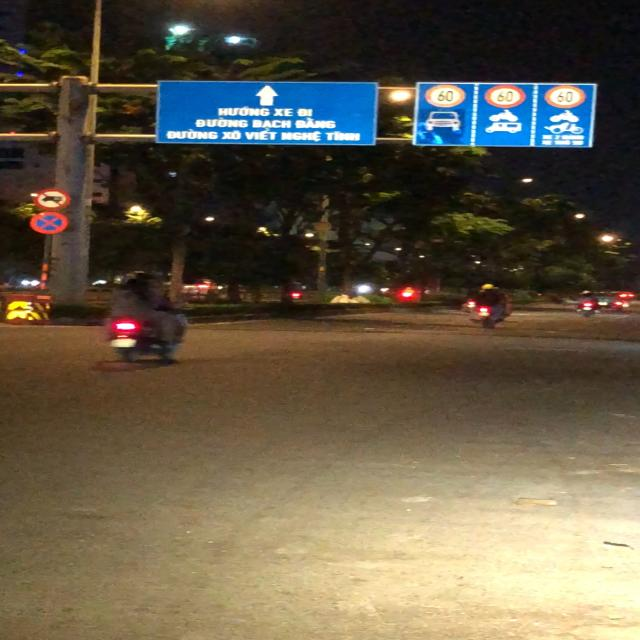Bien bao cam dung xe va do xe: (31, 209, 70, 234)
Bien bao cam xe oto tai: (32, 188, 73, 211)
Bien bao toc do toi da cho phep: (542, 84, 589, 110), (482, 84, 530, 108), (423, 85, 467, 108)
